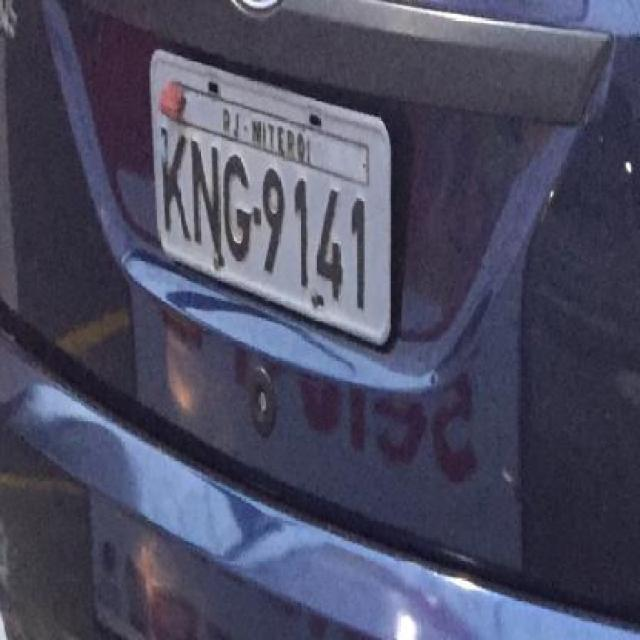old_plate: (143, 42, 401, 356)
